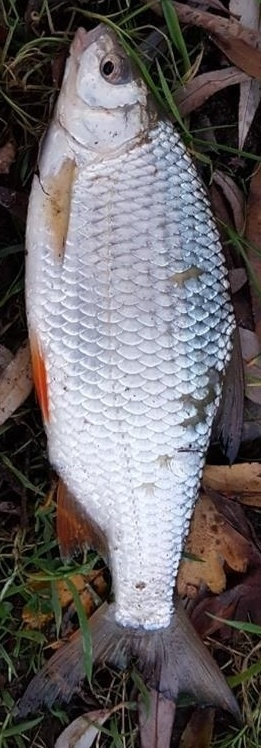Rutilus rutilus: (20, 20, 241, 728)
